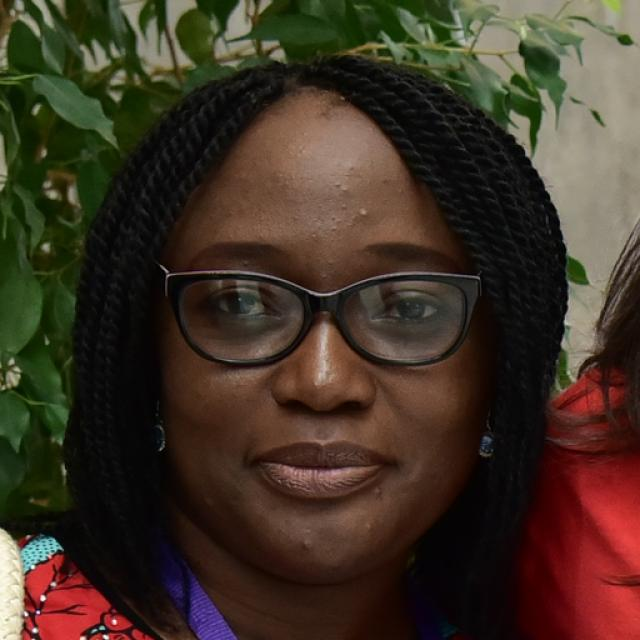Acne: (351, 202, 378, 225), (354, 516, 382, 536), (296, 531, 319, 554), (324, 210, 344, 236), (331, 176, 354, 198), (338, 162, 360, 178), (369, 482, 391, 498), (331, 197, 349, 216)
